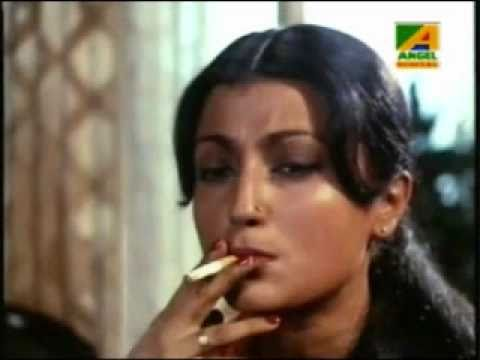cigarette: (175, 249, 240, 286)
